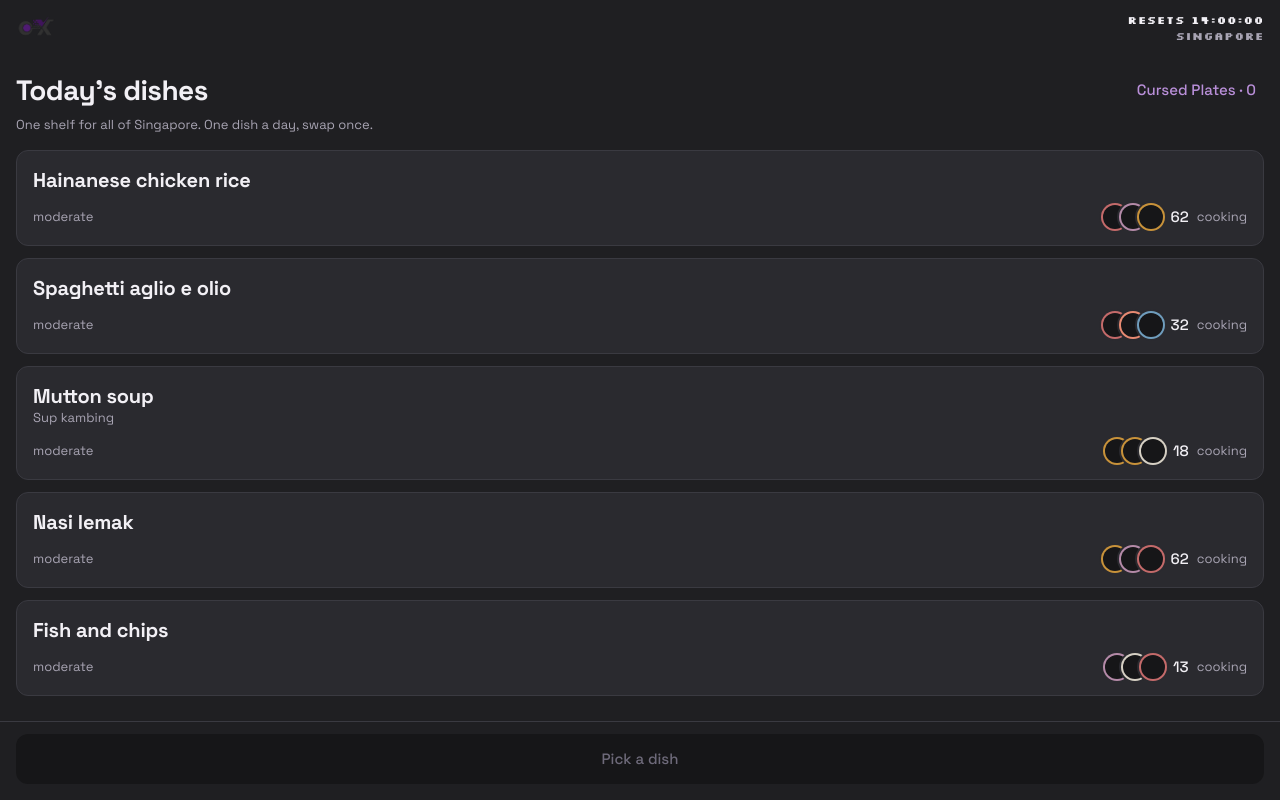
Test: Board (spec §5, §3.2) › walks the CTA through all five states in order, with the Bin remarks and the Cooking today chip
Expected: the button "Pick a dish" is shown, [16, 734, 1264, 784]
Expected: the button "Pick a dish" is disabled, [16, 734, 1264, 784]
Click the button "Hainanese chicken rice moderate 62 cooking" at [142, 180], box [16, 150, 1264, 246]
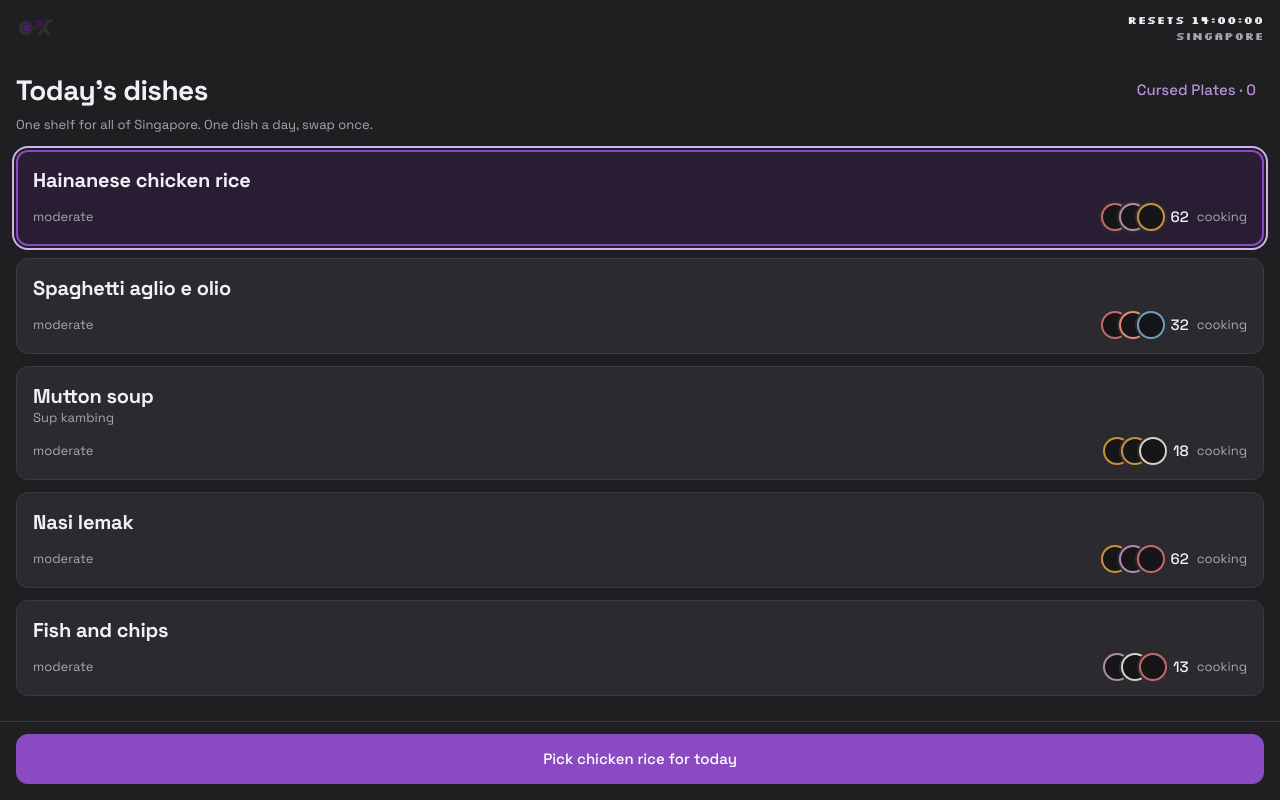
Expected: the button "Pick chicken rice for today" is shown
Click the button "Pick chicken rice for today" at [640, 759], box [16, 734, 1264, 784]
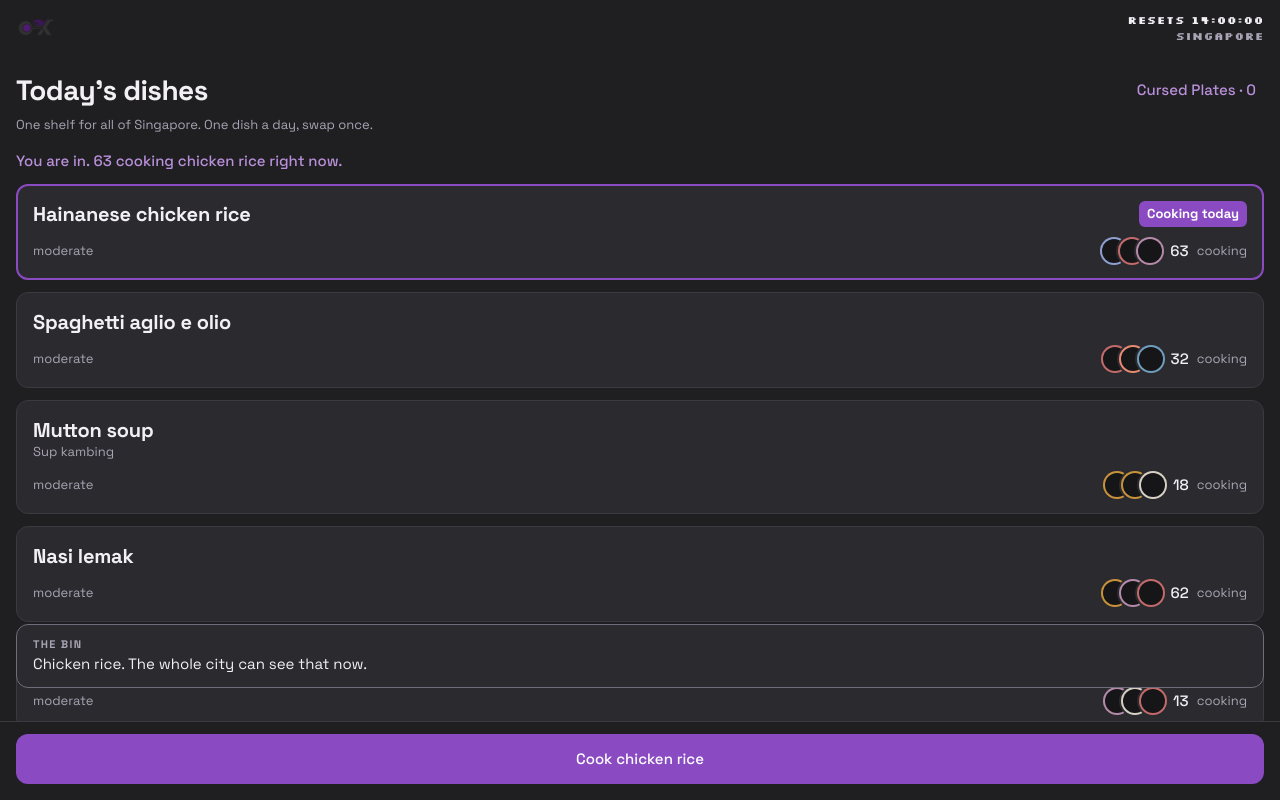
Expected: the button "Cook chicken rice" is shown, [16, 734, 1264, 784]
Expected: the text "Chicken rice. The whole city can see that now." is shown, [33, 654, 367, 673]
Expected: the text "Cooking today" is shown, [1139, 201, 1247, 227]
Click the button "Nasi lemak moderate 62 cooking" at [83, 556], box [16, 526, 1264, 622]
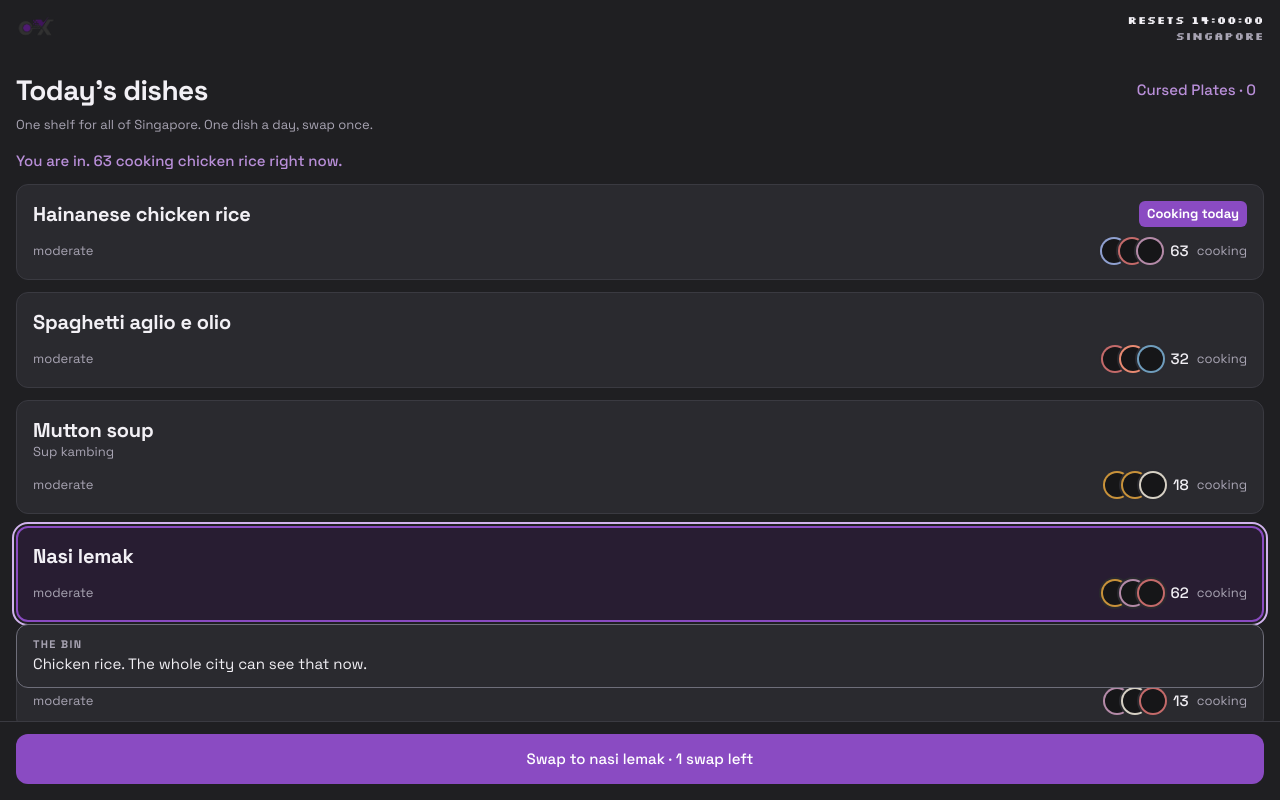
Expected: the button "Swap to nasi lemak · 1 swap left" is shown
Click the button "Swap to nasi lemak · 1 swap left" at [640, 759], box [16, 734, 1264, 784]
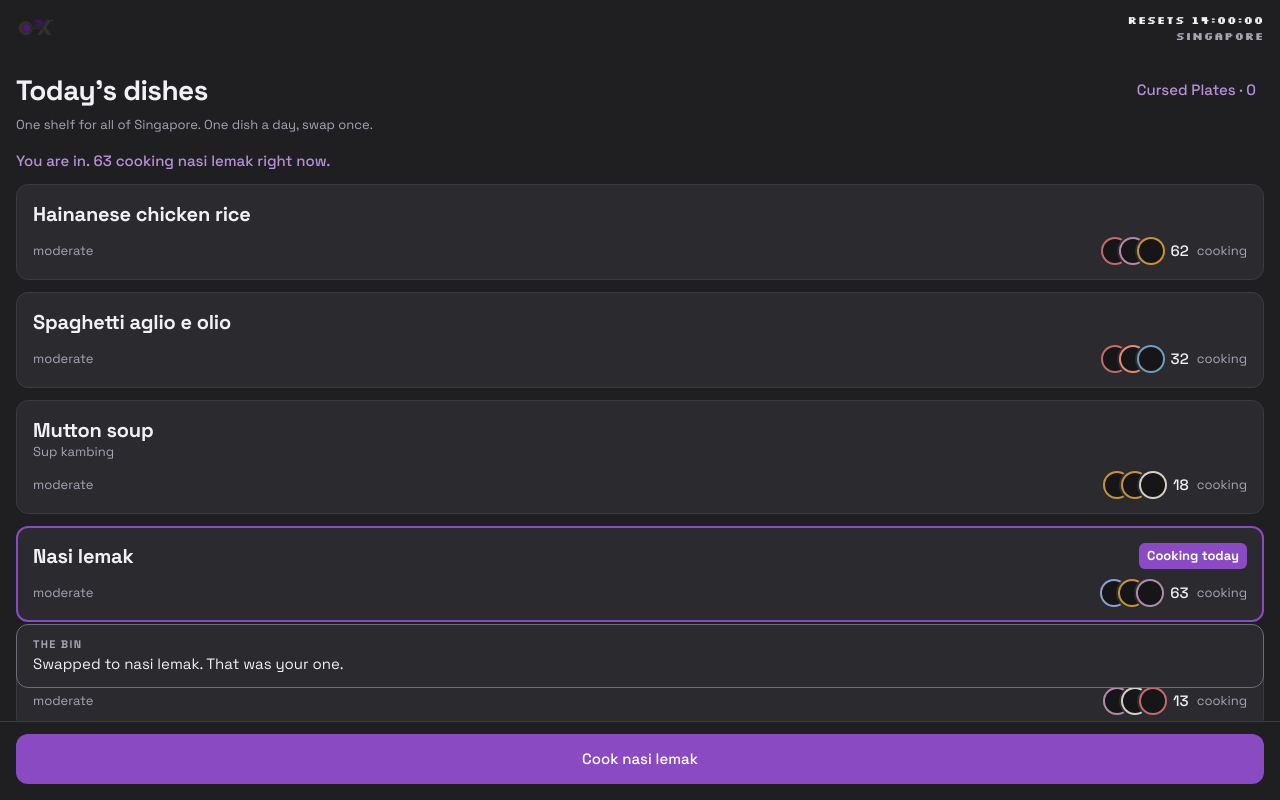
Expected: the button "Cook nasi lemak" is shown, [16, 734, 1264, 784]
Expected: the text "Swapped to nasi lemak. That was your one." is shown, [33, 654, 344, 673]
Click the button "Hainanese chicken rice moderate 62 cooking" at [142, 214], box [16, 184, 1264, 280]
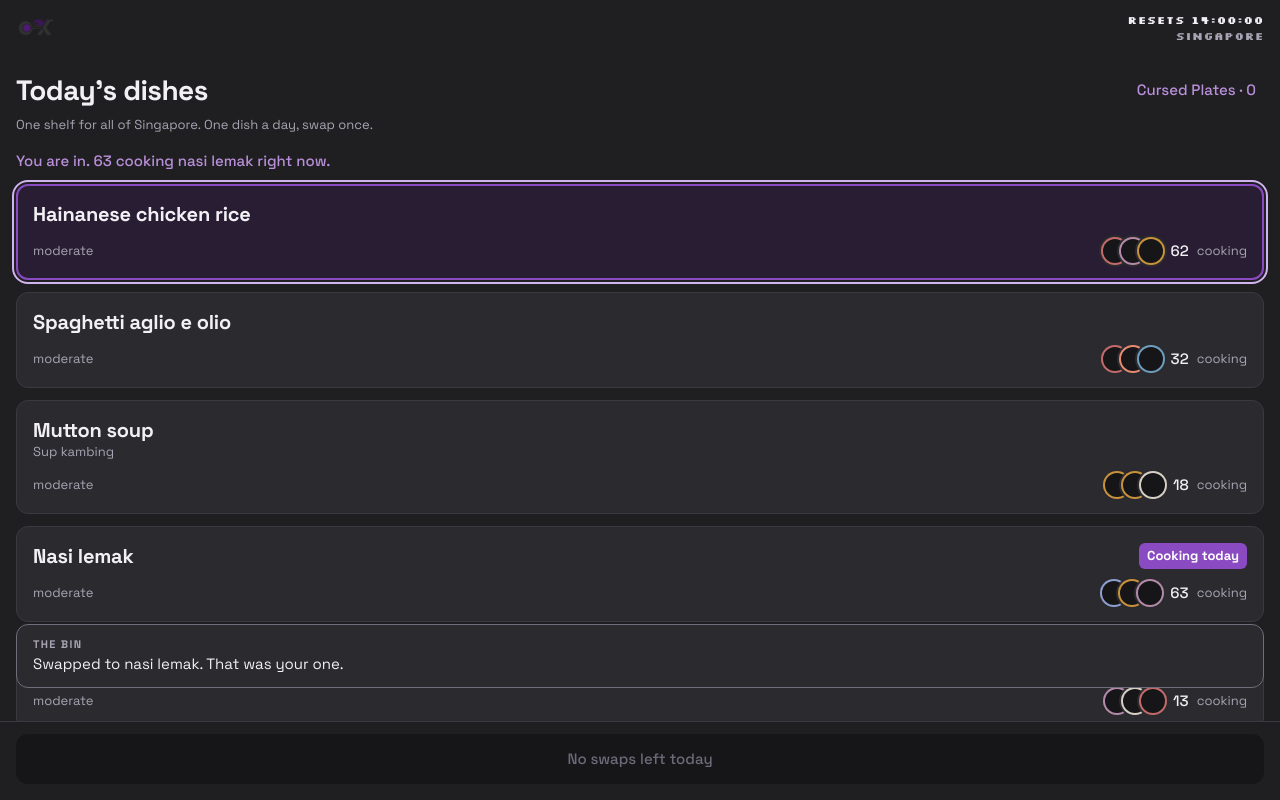
Expected: the button "No swaps left today" is shown, [16, 734, 1264, 784]
Expected: the button "No swaps left today" is disabled, [16, 734, 1264, 784]
Click the button "Nasi lemak Cooking today moderate 63 cooking" at [83, 556], box [16, 526, 1264, 622]
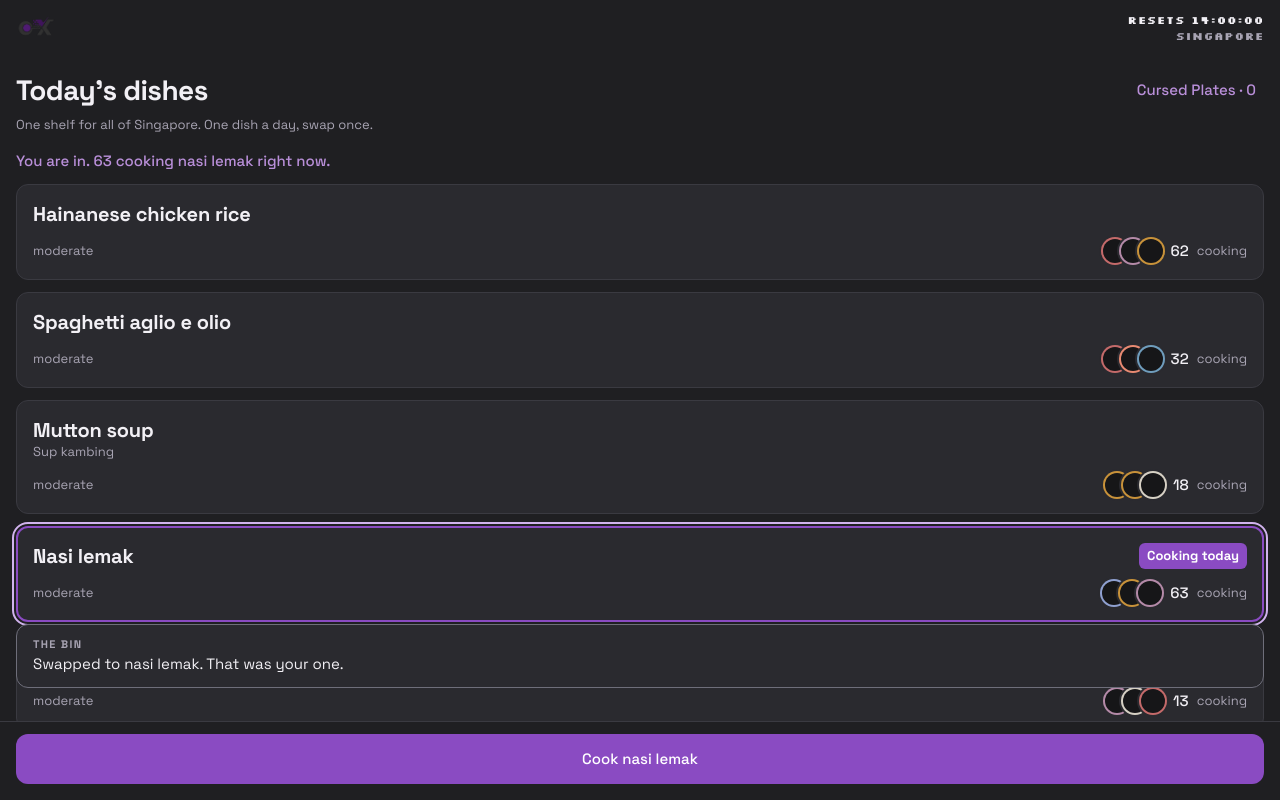
Expected: the button "Cook nasi lemak" is shown, [16, 734, 1264, 784]
